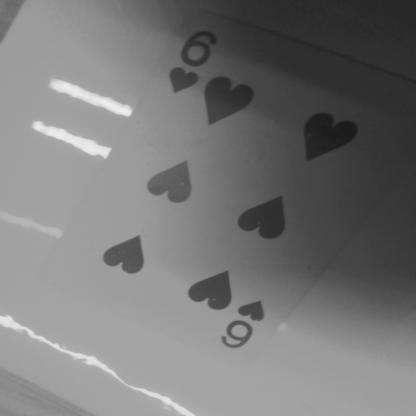6H: (156, 16, 224, 96), (214, 289, 282, 358)
